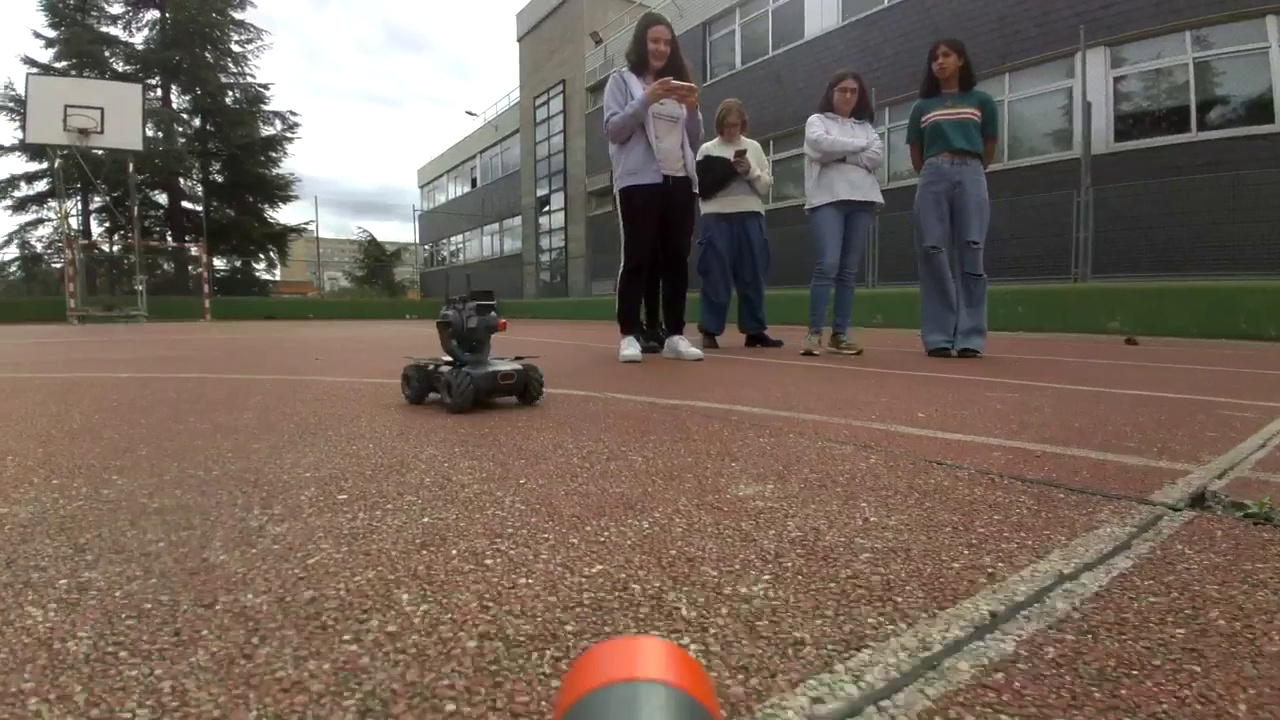robot: (402, 290, 547, 413)
